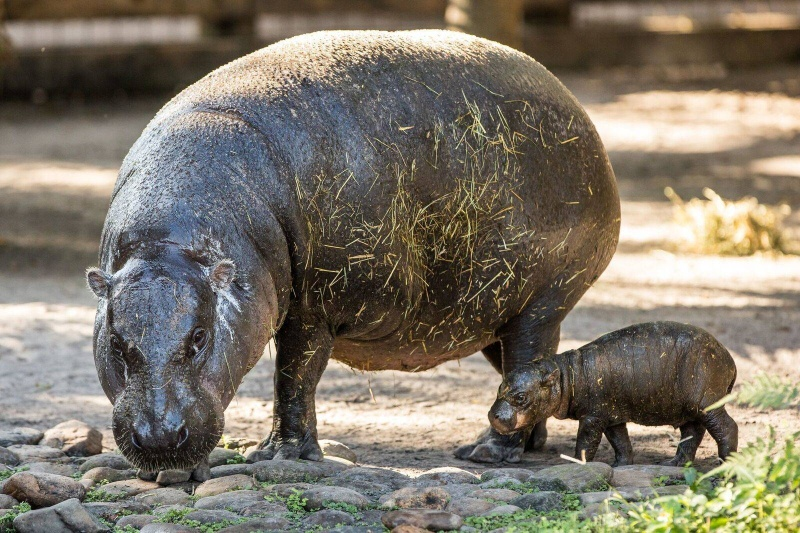hipopotamo: (93, 25, 626, 453), (480, 315, 746, 466)
